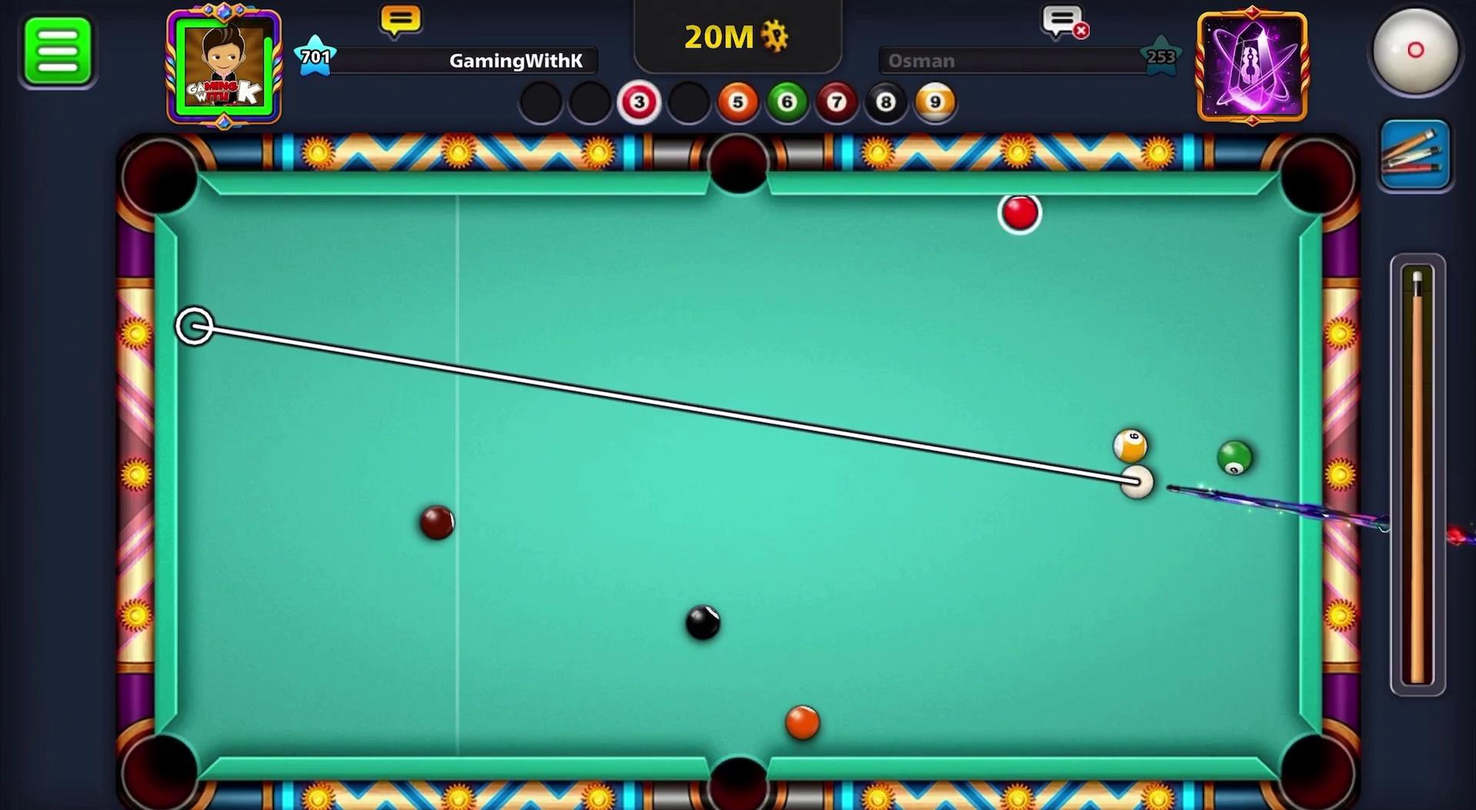Ball: (675, 599, 729, 648), (409, 500, 464, 546), (776, 701, 825, 745), (995, 192, 1042, 234), (1109, 423, 1154, 466), (1215, 435, 1258, 476)
Force: (1387, 251, 1451, 705)
Guideline: (175, 305, 1153, 498)
Hole: (105, 126, 218, 234), (1270, 130, 1365, 231), (1265, 719, 1364, 809), (114, 725, 206, 809), (688, 736, 784, 809), (699, 125, 779, 204)
Play_Area: (179, 204, 1295, 762)
Spin: (1347, 0, 1475, 112)
White: (1114, 460, 1164, 506)
